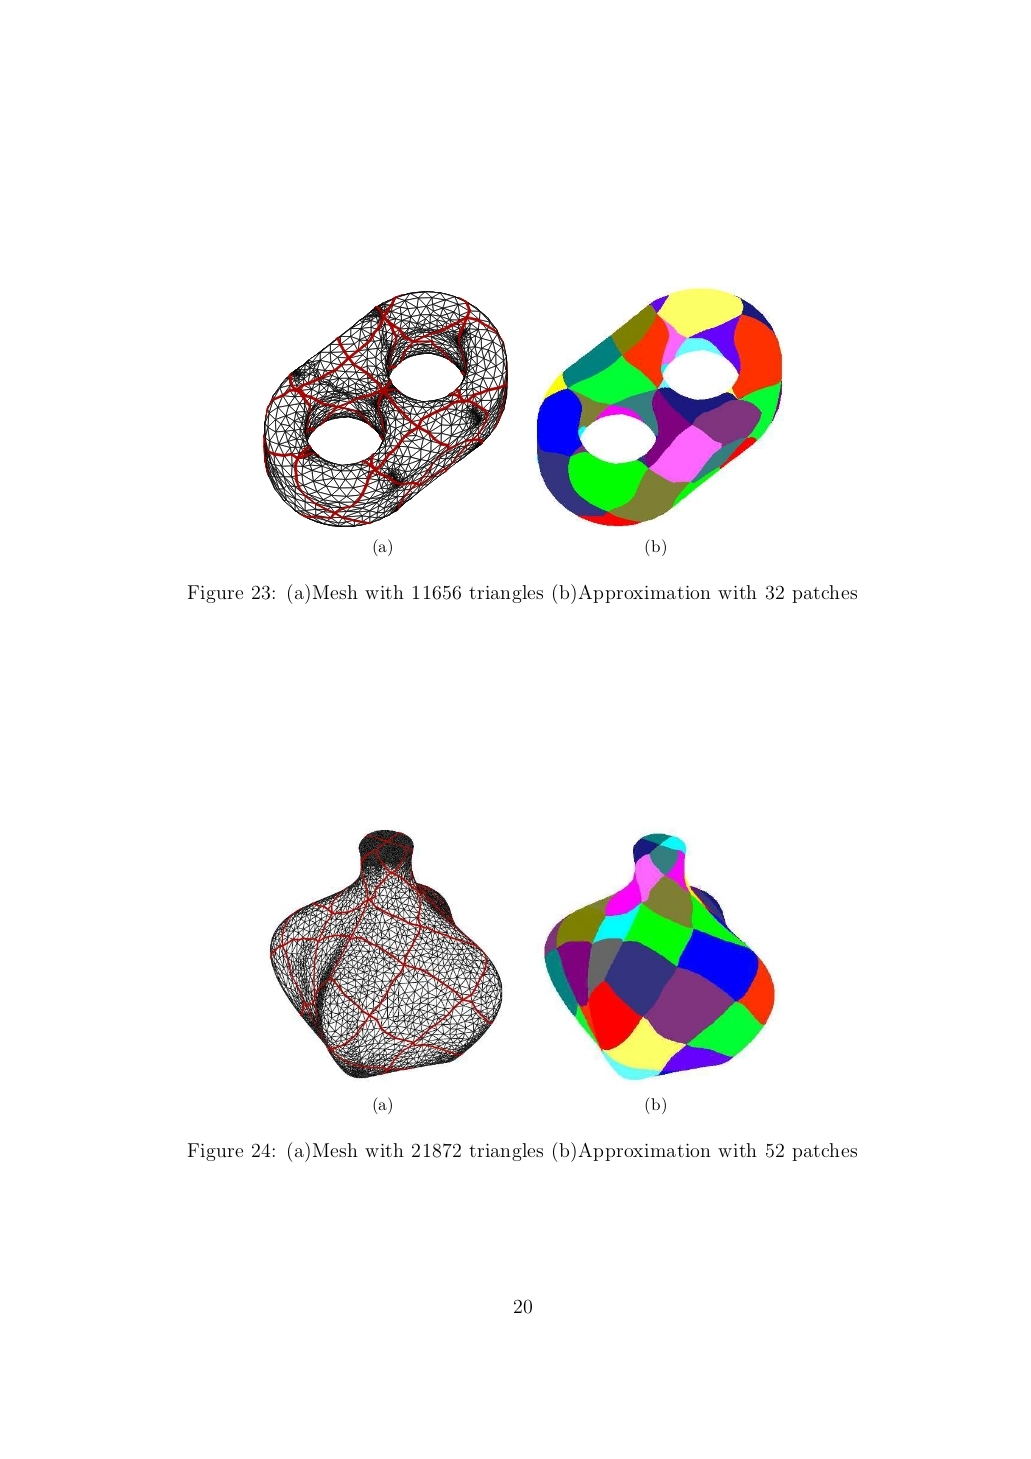figure: (537, 287, 782, 526), (269, 828, 502, 1079), (262, 290, 507, 526), (545, 832, 775, 1081)
